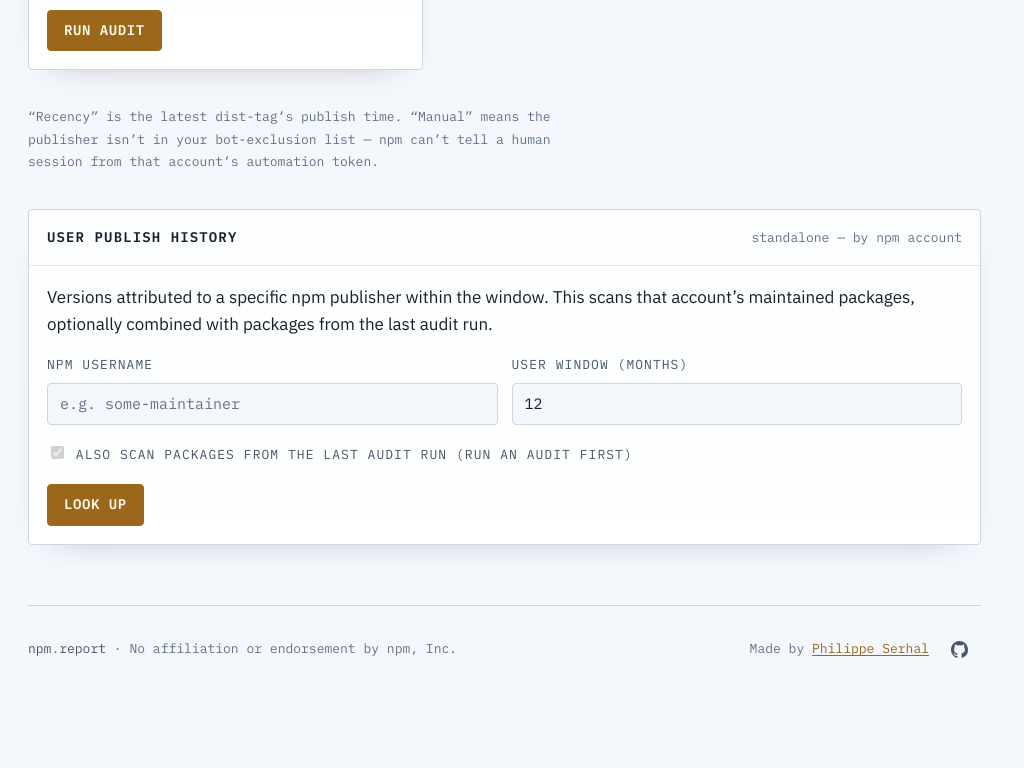
Test case: App › surfaces a streamed user-publish failure and leaves lookup usable
(page scrolled)
Type "alice" into the field labelled "npm username" at (272, 404), box [47,383,498,425]
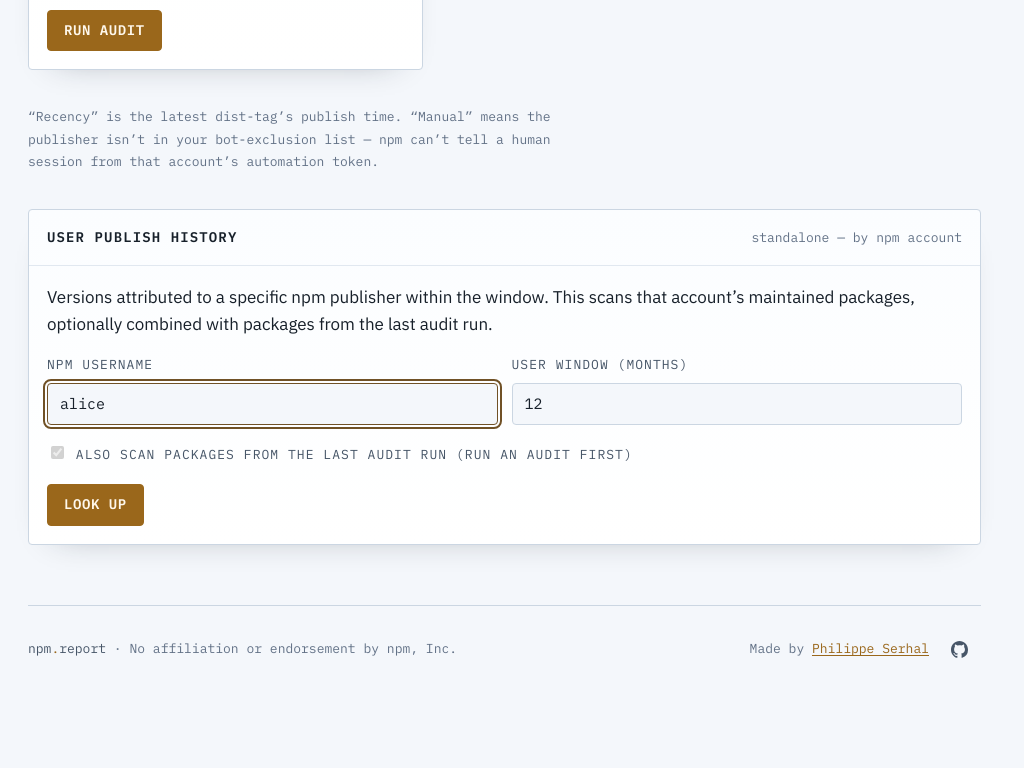
Click the button "Look up" at (95, 505), box [47,484,144,526]
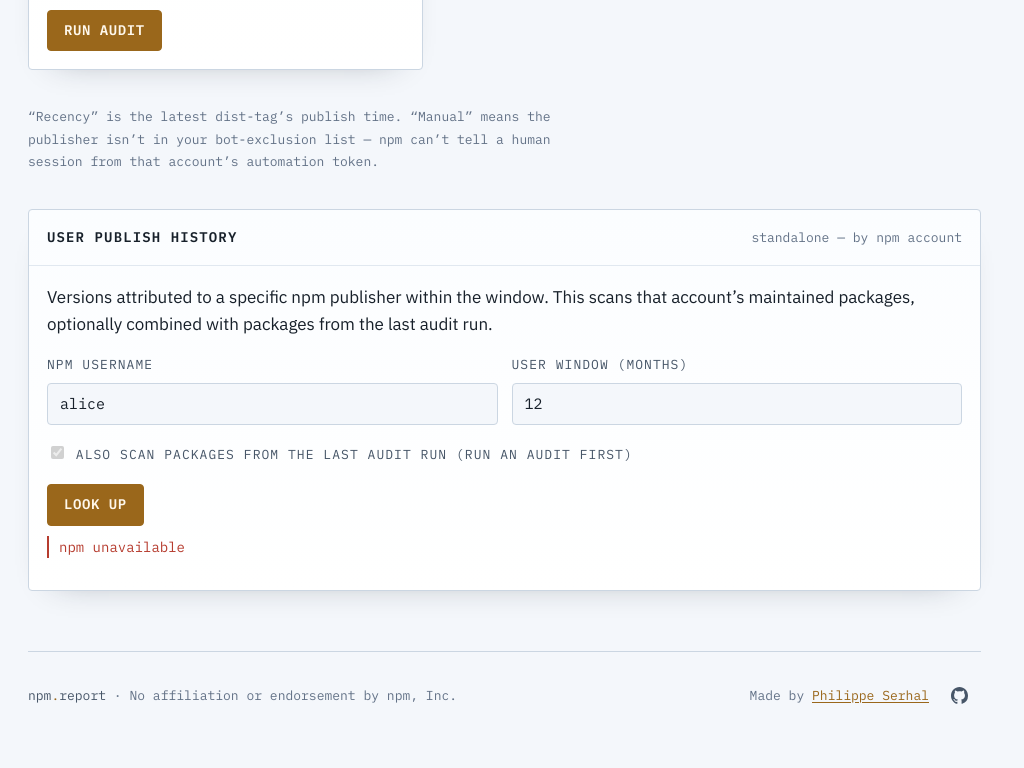
Now the message reads "npm unavailable", box [59,538,185,556]
